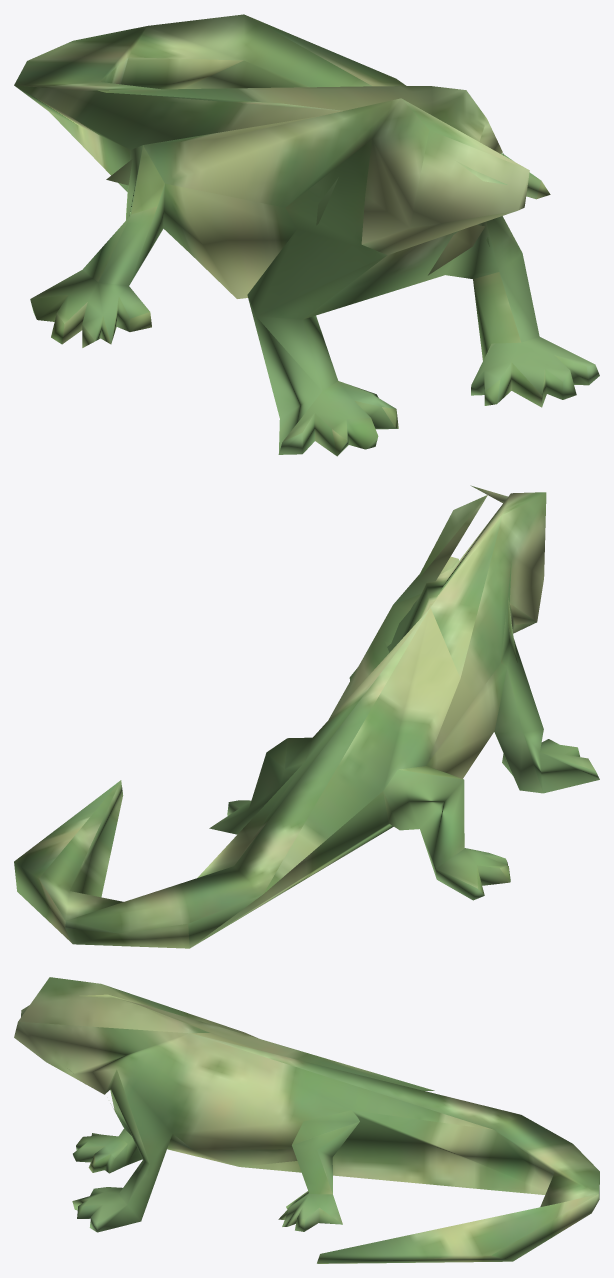
File: green_iguana-0QYRHlCg.glb
3 renders of one model, top to bottom at view 1: azimuth 30°, elevation 25°; view 2: azimuth 150°, elevation 25°; view 3: azimuth 270°, elevation 25°, orthographic. The views are drawn at different scales.
Visible parts, largest first — view 1: geom0; view 2: geom0; view 3: geom0.
Boxes of the visible parts, x1,y1,x2,y2 form: geom0: (14, 14, 599, 456); geom0: (14, 485, 599, 948); geom0: (14, 977, 599, 1263).
Bounding box in the file's own units: 0.6031 × 0.3697 × 1.01.
1 material, 1 textured.
